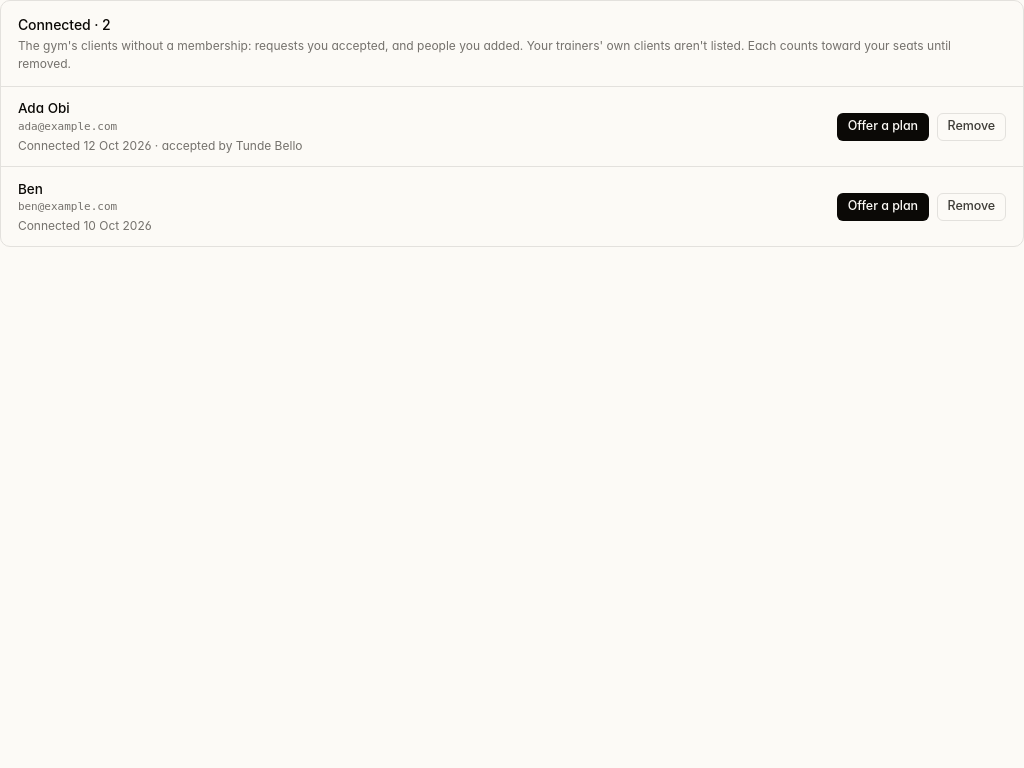
Test: gym members: the Connected list › Remove asks first, ends the connection, and reloads the list
The in-app confirmation, not a browser dialog.
Click the button with aria-label "Remove Ada Obi" at (971, 127), box x1=936 y1=113 x2=1006 y2=141
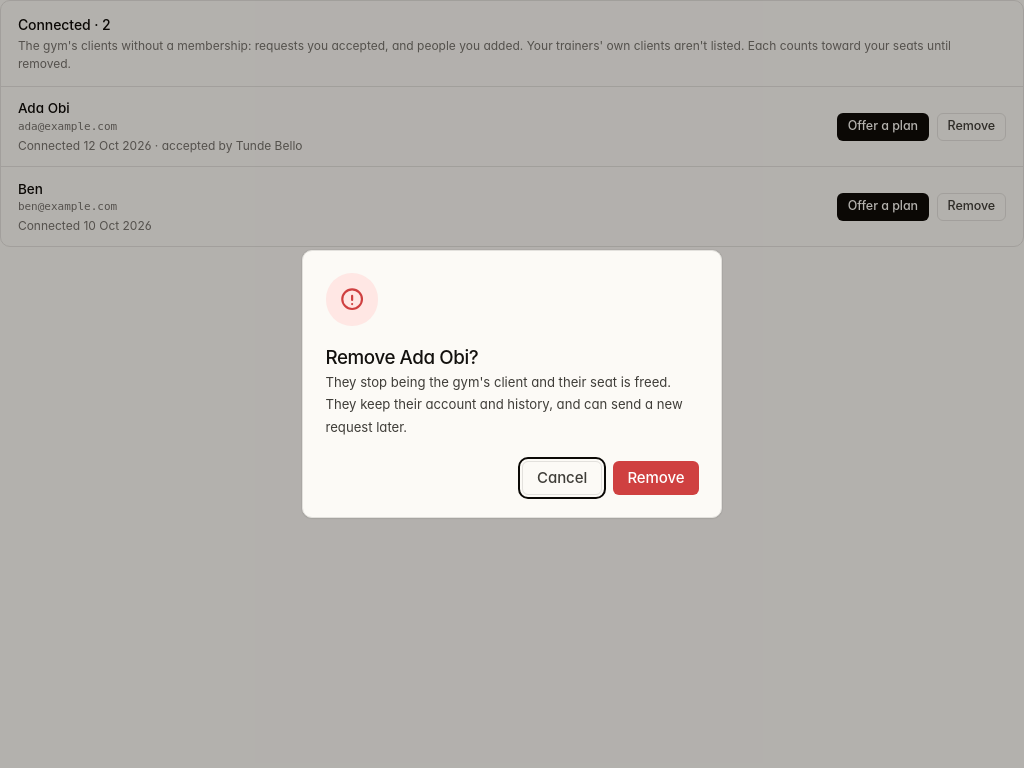
Check: the heading "Remove Ada Obi?" is shown, box x1=326 y1=346 x2=478 y2=368
Check: the text "their seat is freed. They keep their account and history" is shown, box x1=326 y1=374 x2=683 y2=435
Click the button "Cancel" at (562, 478), box x1=522 y1=461 x2=602 y2=495
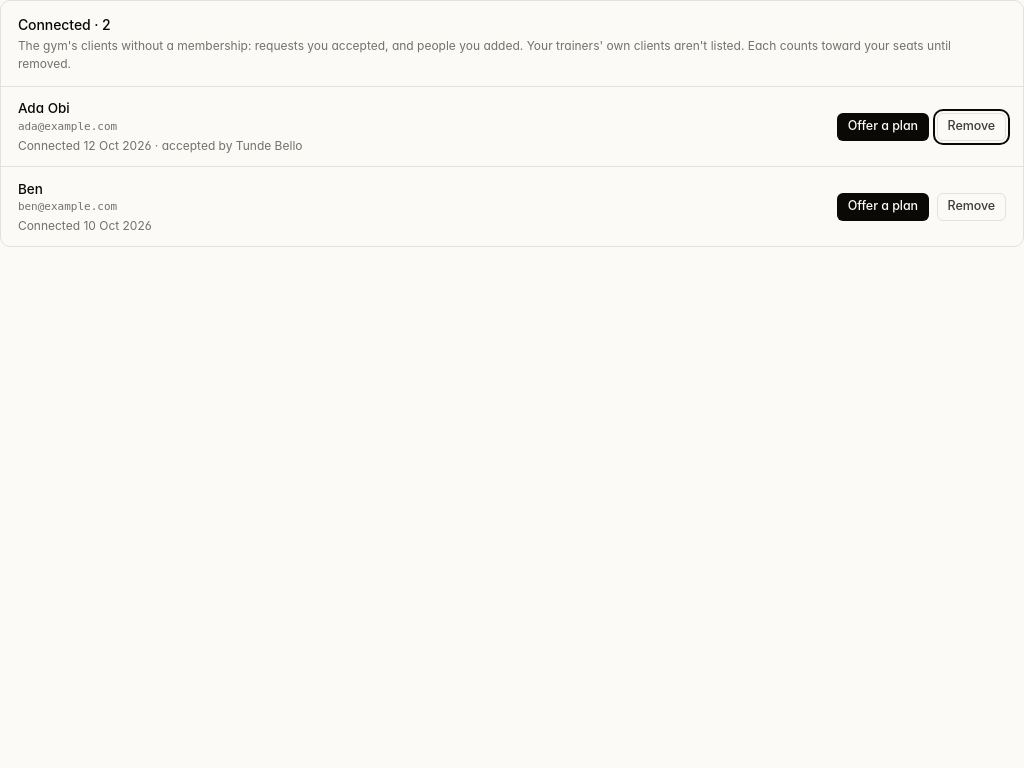
Check: the heading "Remove Ada Obi?" is gone
Click the button with aria-label "Remove Ada Obi" at (971, 127), box x1=936 y1=113 x2=1006 y2=141
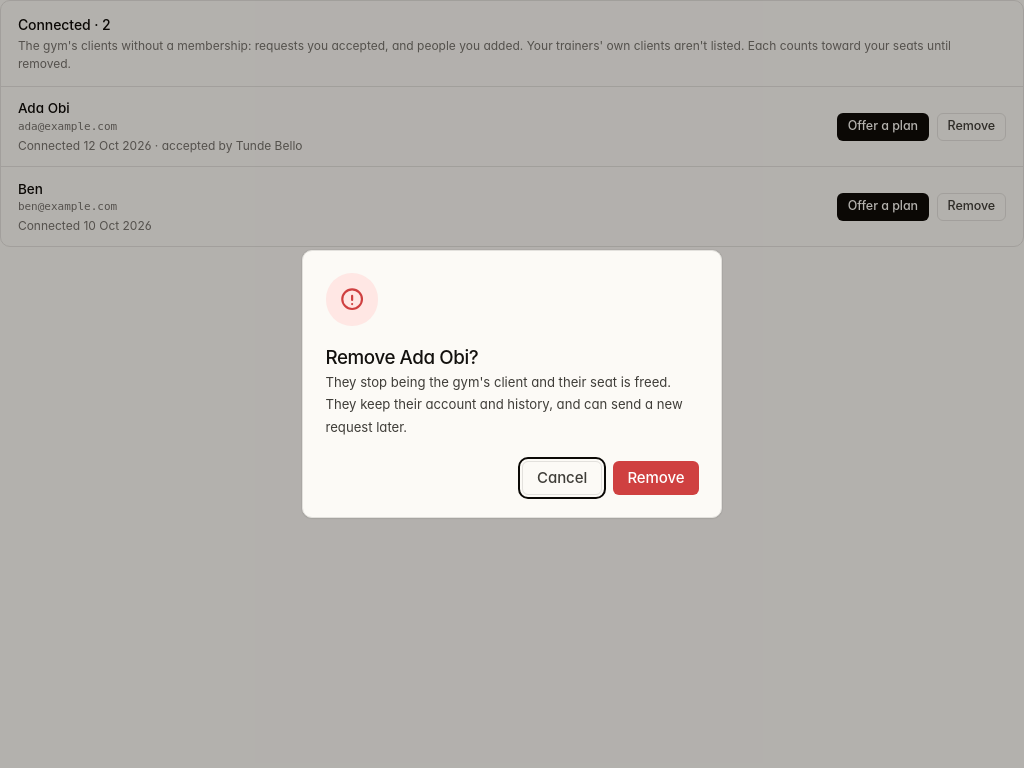
Click the button "Remove" at (656, 478), box x1=613 y1=461 x2=698 y2=495
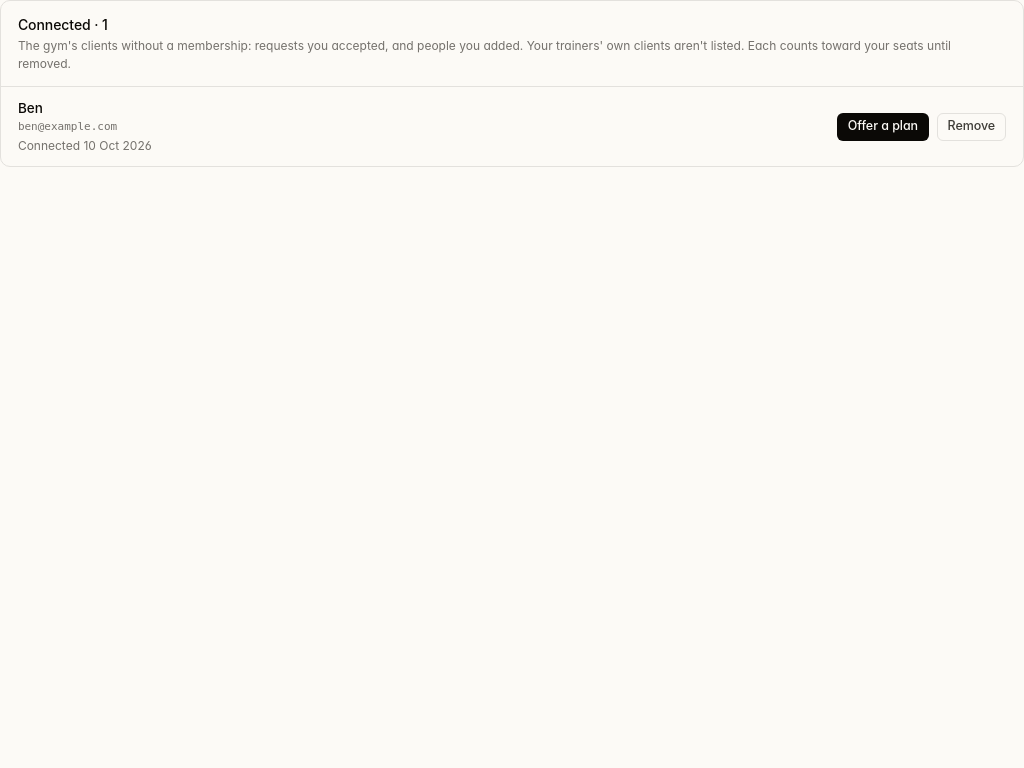
Check: the heading "Remove Ada Obi?" is gone
Check: the text "Ada Obi" is gone
Check: the heading "Connected · 1" is shown, box x1=18 y1=16 x2=108 y2=33
